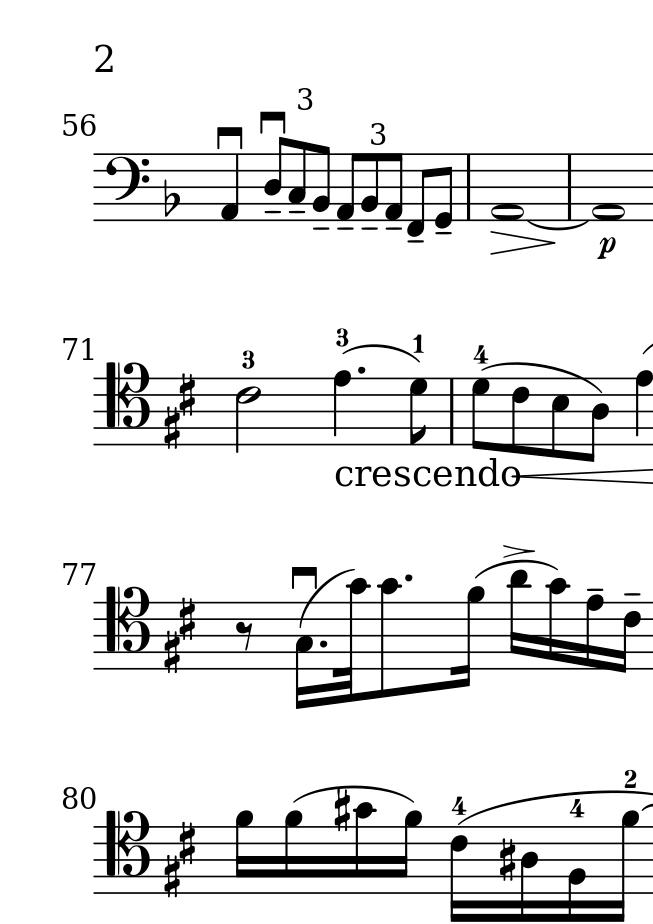0: (79, 783, 96, 812)
1: (80, 336, 94, 363), (414, 330, 424, 355)
16_10: (377, 578, 402, 701), (353, 800, 378, 896), (546, 577, 571, 670)
16_11: (507, 568, 530, 672)
16_2: (566, 825, 587, 924)
16_3: (294, 602, 314, 710)
16_4: (519, 825, 540, 924)
16_6: (448, 824, 470, 924), (615, 600, 643, 675)
16_8: (584, 592, 605, 673)
16_9: (609, 809, 640, 922), (453, 585, 485, 690), (394, 808, 421, 897), (282, 809, 302, 896), (234, 808, 252, 897)
1_1: (490, 151, 527, 224), (592, 151, 626, 224)
2: (92, 42, 114, 73), (622, 768, 638, 789)
2_6: (234, 377, 260, 452)
3: (296, 85, 313, 111), (370, 121, 386, 147), (334, 326, 351, 346), (240, 349, 256, 370)
32_10: (334, 578, 372, 703)
4: (470, 344, 489, 366), (569, 797, 587, 820), (451, 795, 465, 816)
4_1: (217, 152, 241, 222)
4_8: (632, 368, 653, 447), (332, 369, 351, 447)
5: (61, 111, 79, 139)
6: (79, 112, 97, 138)
7: (79, 558, 97, 586), (62, 335, 79, 362), (63, 560, 78, 586)
8_-1: (403, 152, 432, 238)
8_0: (433, 152, 455, 231)
8_1: (334, 151, 360, 224), (383, 150, 403, 226)
8_2: (310, 143, 332, 221), (360, 152, 380, 224)
8_3: (287, 141, 308, 222)
8_4: (583, 375, 610, 465), (262, 136, 289, 223)
8_5: (548, 376, 569, 459)
8_6: (509, 376, 530, 455)
8_7: (470, 376, 491, 450), (408, 377, 429, 447)
Accent_above: (501, 541, 536, 557)
Crescendo_hairpin: (515, 467, 653, 484)
D_S: (162, 820, 198, 897), (161, 373, 197, 449), (162, 596, 198, 670)
Diminuendo_hairpin: (490, 231, 556, 254)
Down_bow: (258, 110, 290, 136), (289, 564, 319, 590), (213, 125, 246, 148)
Fclef: (103, 152, 151, 222)
Flat: (161, 177, 181, 218)
Rests8: (234, 620, 256, 652)
Sharp: (497, 837, 517, 885), (332, 787, 351, 835)
Single_barline: (445, 380, 459, 444), (562, 155, 576, 218)
Slur: (480, 361, 601, 397), (300, 567, 357, 628), (294, 785, 413, 804), (345, 345, 417, 365), (473, 559, 559, 575), (529, 220, 590, 230)
Tensor_Cclef: (103, 359, 150, 445), (104, 584, 150, 669), (104, 809, 149, 894)
dot: (401, 571, 414, 585), (317, 637, 329, 650), (355, 364, 367, 376)
p: (595, 235, 617, 263)
